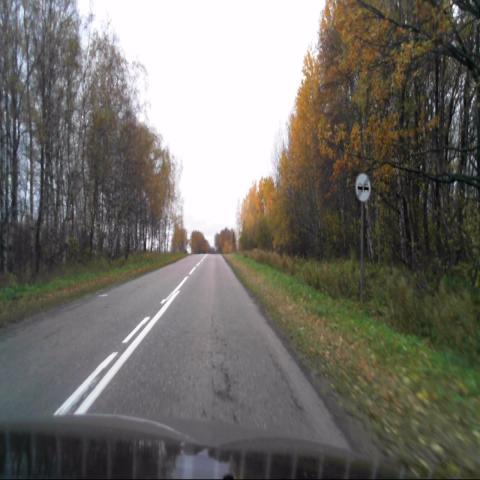3_21: (354, 172, 372, 204)
